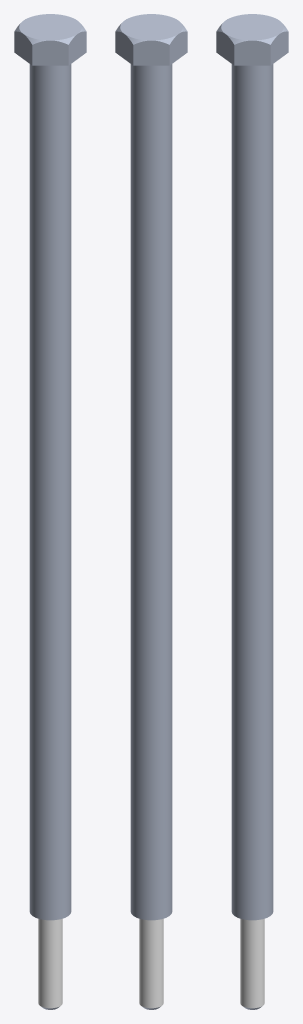
The model's file is Shaft.glb.
3 renders of one model, left to right at view 1: azimuth 90°, elevation 25°; view 2: azimuth 150°, elevation 25°; view 3: azimuth 270°, elevation 25°, orthographic.
Visible parts, largest first — view 1: Shaft; view 2: Shaft; view 3: Shaft.
Boxes of the visible parts, x1,y1,x2,y2 form: Shaft: (14,14,86,1009); Shaft: (115,14,187,1009); Shaft: (216,14,288,1009).
Bounding box in the file's own units: 0.018 × 0.31 × 0.0208.
